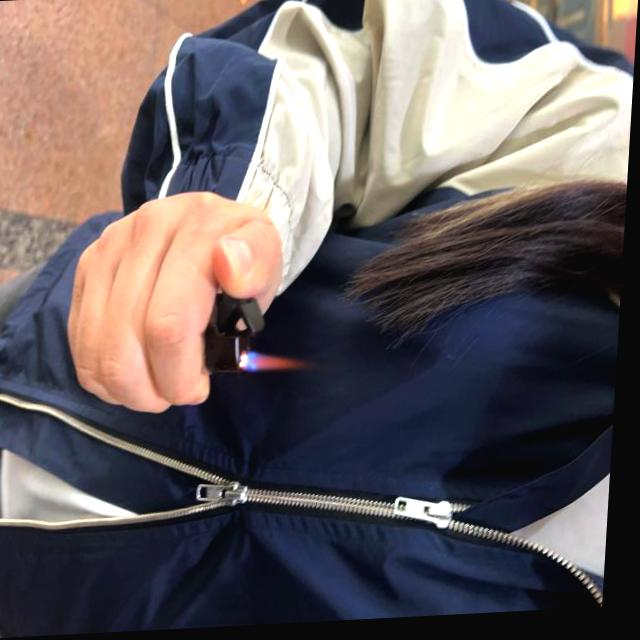helmet: (244, 349, 318, 377)
